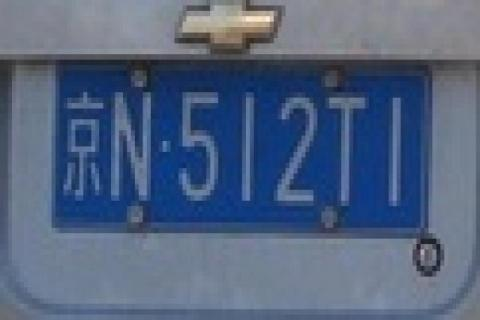LicensePlate: (38, 42, 441, 250)
